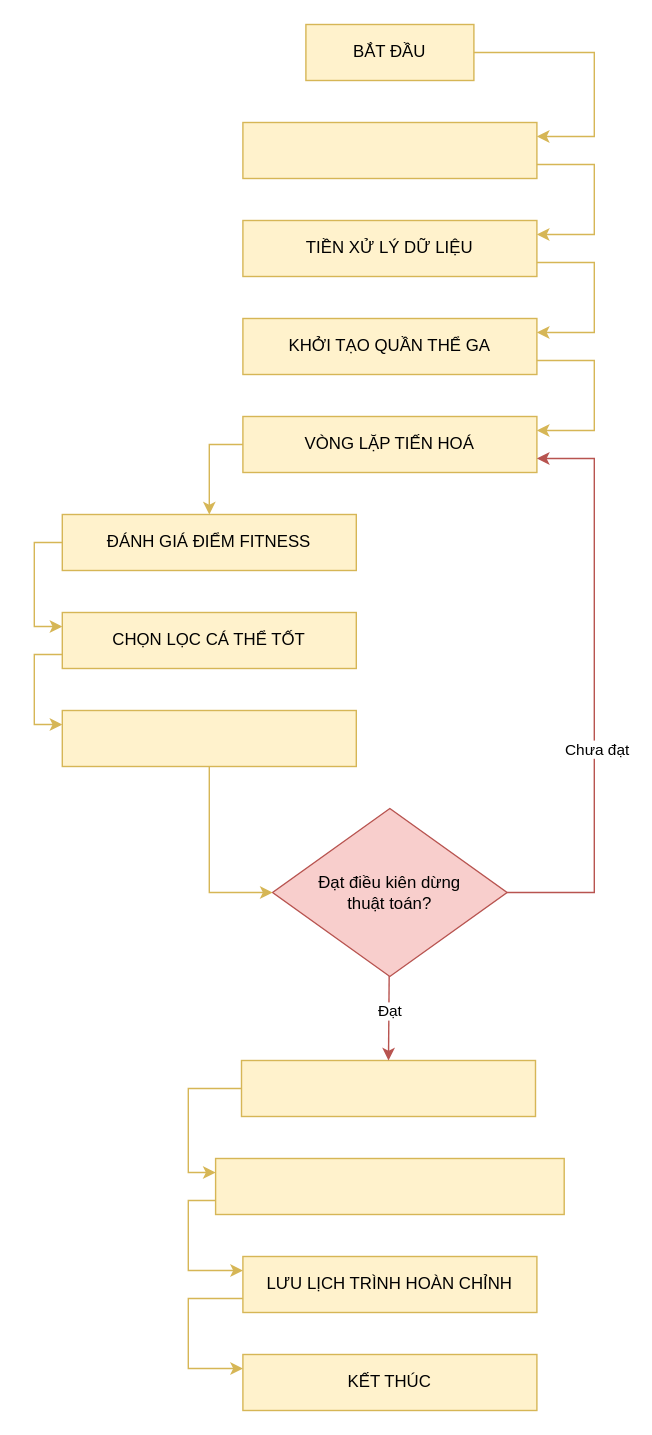
The diagram is 652 pixels wide and 1435 high, and some of its shapes have lost their labels. The box of each missing label's shape, as (x1, y1, x2, y2) in pixels:
KIỂM TRA VÀ GIẢI QUYẾT XUNG ĐỘT: (214, 1157, 564, 1214)
LAI GHÉP: (61, 709, 356, 766)
MỞ RỘNG LỊCH CHO CẢ HỌC KỲ: (240, 1059, 536, 1116)
THU THẬP DỮ LIỆU ĐẦU VÀO: (241, 121, 537, 178)
